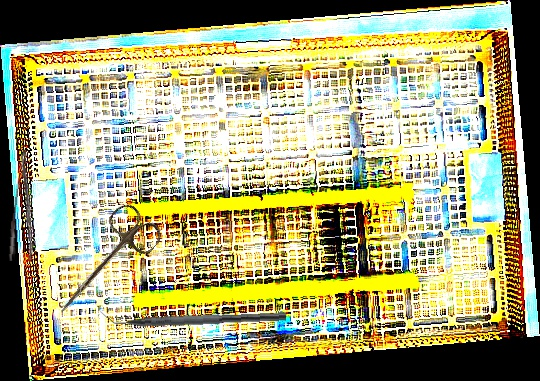Chopper: (99, 299, 287, 331)
Dressing Forceps: (6, 147, 46, 264)
Iris Scissors: (42, 199, 167, 331)
